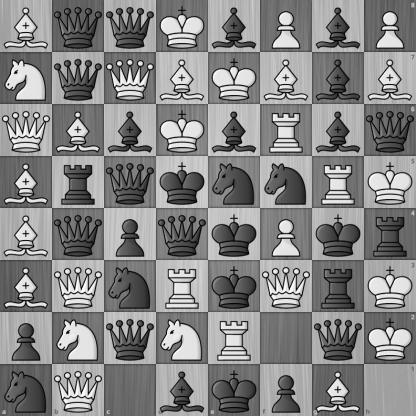B: (312, 364, 364, 416), (364, 52, 416, 104), (1, 1, 52, 52), (1, 157, 52, 208), (1, 209, 52, 260), (1, 261, 52, 312), (53, 105, 104, 156), (157, 53, 208, 104), (261, 53, 312, 104)
K: (364, 156, 416, 209), (364, 260, 416, 312), (364, 312, 416, 364), (157, 1, 208, 52), (157, 105, 208, 156), (209, 53, 260, 104)
N: (1, 53, 52, 104), (53, 313, 104, 364), (157, 313, 208, 364)
P: (364, 0, 416, 52), (261, 1, 312, 52), (261, 209, 312, 260)
Q: (52, 364, 104, 416), (1, 105, 52, 156), (53, 261, 104, 312), (105, 53, 156, 104), (261, 261, 312, 312)
R: (157, 261, 208, 312), (209, 313, 260, 364), (261, 105, 312, 156), (313, 157, 364, 208)
b: (156, 364, 209, 416), (105, 105, 156, 156), (209, 1, 260, 52), (209, 105, 260, 156), (313, 1, 364, 52), (313, 53, 364, 104), (313, 105, 364, 156)
board: (0, 0, 415, 415)
k: (209, 364, 260, 416), (157, 157, 208, 208), (209, 209, 260, 260), (209, 261, 260, 312), (313, 209, 364, 260)
n: (0, 364, 52, 416), (105, 261, 156, 312), (209, 157, 260, 208), (261, 157, 312, 208)
p: (260, 364, 312, 416), (1, 313, 52, 364), (105, 209, 156, 260)
q: (364, 104, 416, 156), (53, 1, 104, 52), (53, 53, 104, 104), (53, 209, 104, 260), (105, 1, 156, 52), (105, 157, 156, 208), (105, 313, 156, 364), (157, 209, 208, 260), (313, 313, 364, 364)
r: (364, 209, 416, 260), (53, 157, 104, 208), (313, 261, 364, 312)
